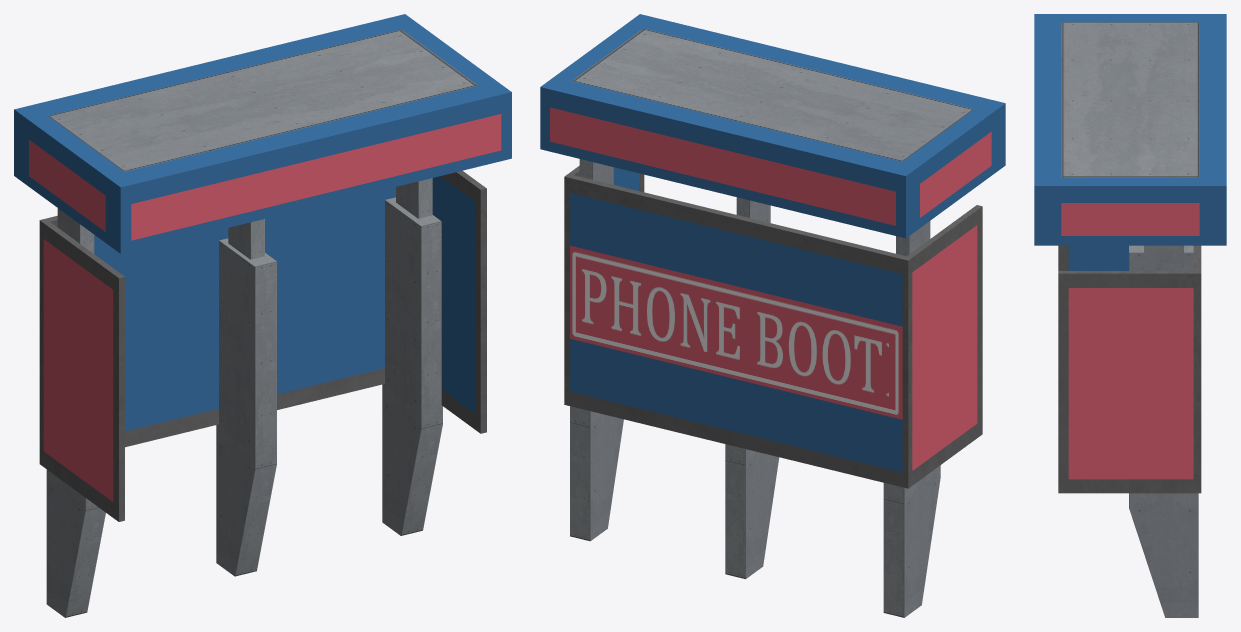
File: phone booth.FBX
3 renders of one model, left to right at view 1: azimuth 30°, elevation 25°; view 2: azimuth 150°, elevation 25°; view 3: azimuth 270°, elevation 25°, orthographic. The views are drawn at different scales.
Visible parts, largest first — view 1: phone booth; view 2: phone booth; view 3: phone booth.
Part boxes in pixels (x1,y1,x2,y2): phone booth: (14,14,511,617); phone booth: (540,14,1005,617); phone booth: (1034,14,1226,617).
Size of the model in its own units: 17.73 by 21.13 by 8.38.
